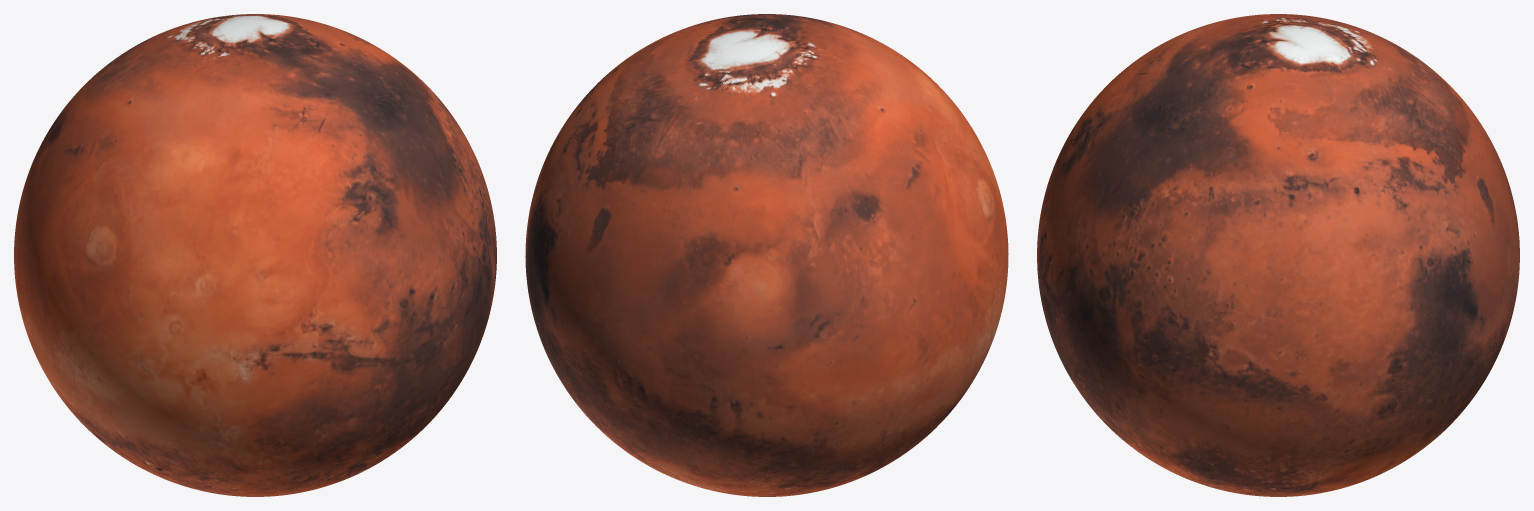
Rendered from mars-textured-planet.glb.
3 views of the same model, side by side, from view 1: azimuth 30°, elevation 25°; view 2: azimuth 150°, elevation 25°; view 3: azimuth 270°, elevation 25° (orthographic).
Visible parts, largest first — view 1: Mars | UV sphere with portable 4K surface; view 2: Mars | UV sphere with portable 4K surface; view 3: Mars | UV sphere with portable 4K surface.
Boxes of the visible parts, x1,y1,x2,y2 form: Mars | UV sphere with portable 4K surface: (14, 14, 496, 496); Mars | UV sphere with portable 4K surface: (525, 14, 1008, 496); Mars | UV sphere with portable 4K surface: (1037, 14, 1519, 496).
Size of the model in its own units: 6.4 by 6.4 by 6.4.
Materials: 1 (1 with a texture image).
